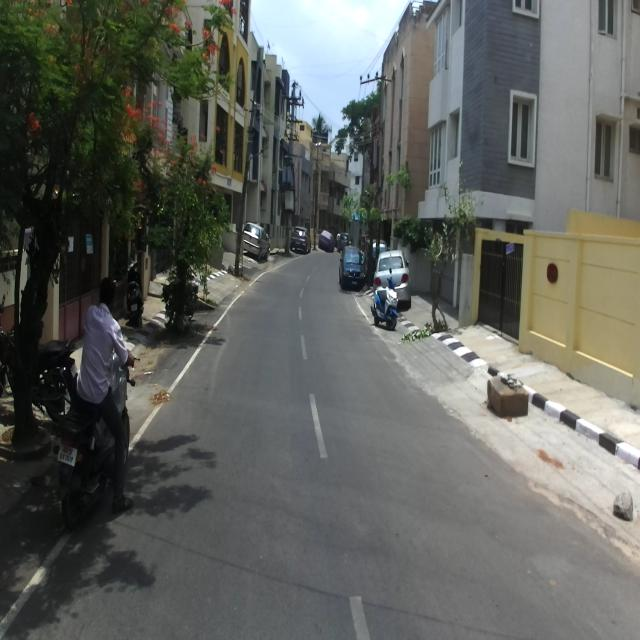motorcycle ahead at: (54, 397, 133, 537)
tree ahead at: (6, 143, 67, 451)
